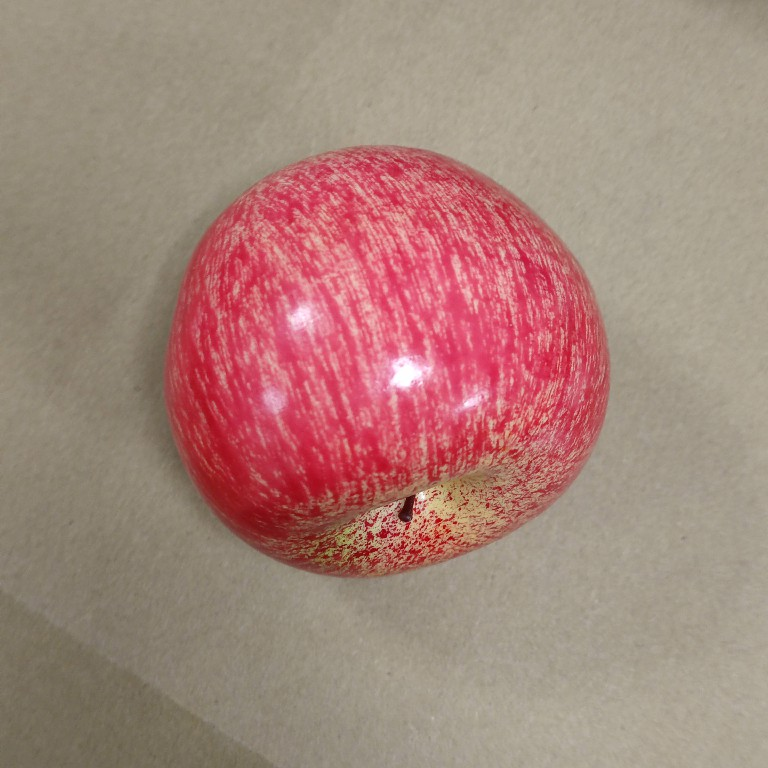fruit_apple: (159, 137, 615, 583)
